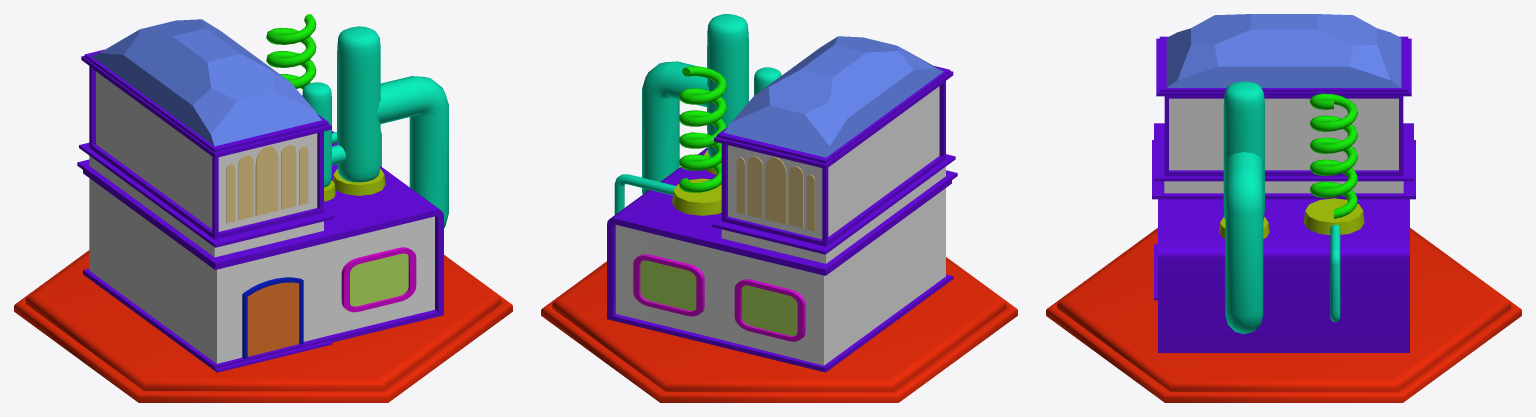
Rendered from ElecGenerator.fbx.
3 renders of one model, left to right at view 1: azimuth 30°, elevation 25°; view 2: azimuth 150°, elevation 25°; view 3: azimuth 270°, elevation 25°, orthographic. The views are drawn at different scales.
Parts seen in each view (by area): view 1: Building, HexagonBase, Details; view 2: Building, HexagonBase, Details; view 3: Building, HexagonBase, Details.
Boxes of the visible parts, x1,y1,x2,y2 form: Building: (77, 19, 443, 372); HexagonBase: (14, 250, 512, 402); Details: (266, 14, 448, 227); Building: (607, 36, 957, 372); HexagonBase: (541, 257, 1017, 402); Details: (614, 14, 781, 215); Building: (1152, 14, 1415, 352); HexagonBase: (1046, 228, 1521, 402); Details: (1219, 81, 1364, 334).
Bounding box in the file's own units: 327 × 234 × 377.
